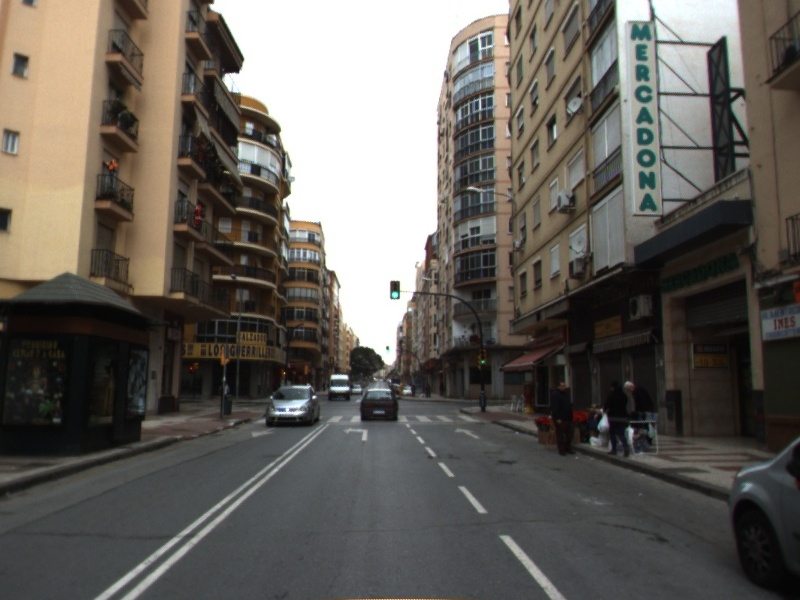LEFT: (341, 425, 370, 442)
STRAIGHT: (453, 426, 481, 440)
